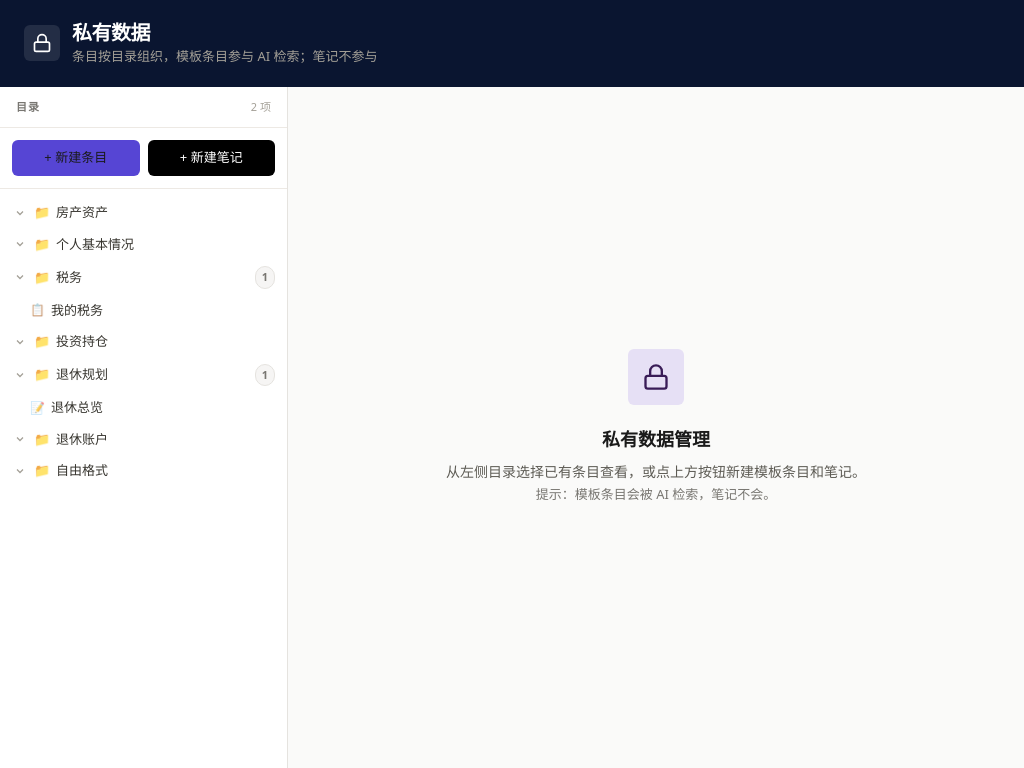
Test: new-entry flow › selecting tax template pre-fills directory to 税务
Click the button "+ 新建条目". click: [76, 158]
box: [12,140,140,176]
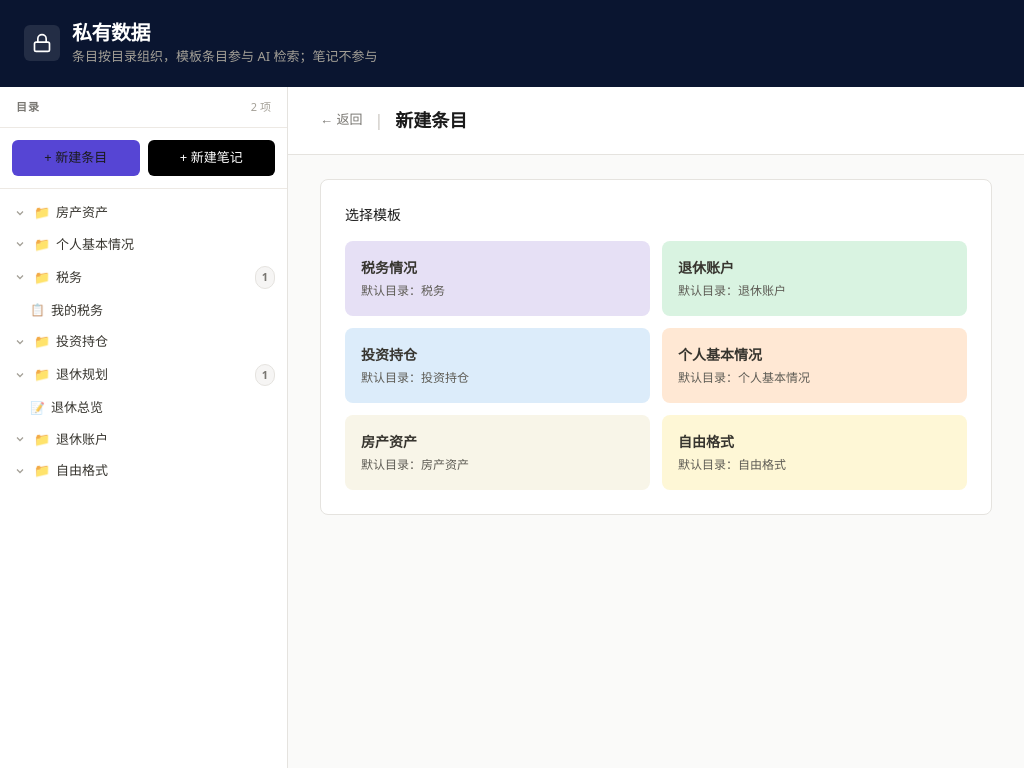
Click the button "税务情况 默认目录：税务". click: [389, 267]
box: [345,240,650,316]
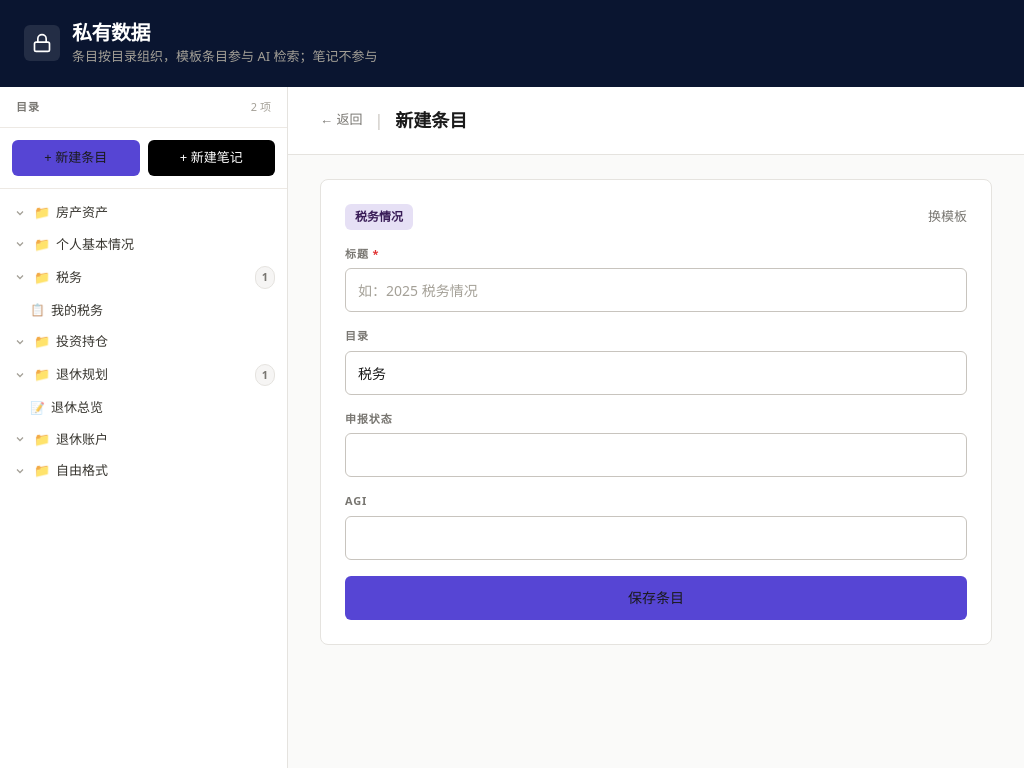
Expected: the 2nd field holds "税务", [345,350,967,394]
